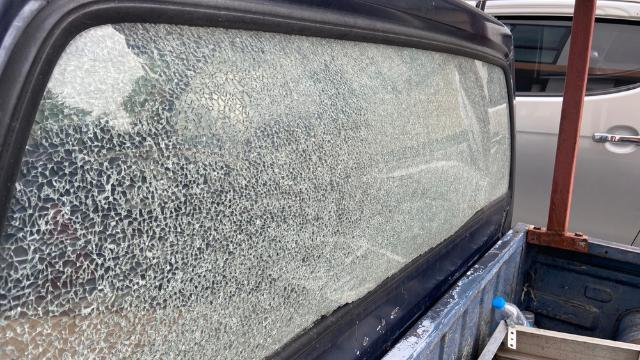glass shatter: (0, 23, 511, 360)
